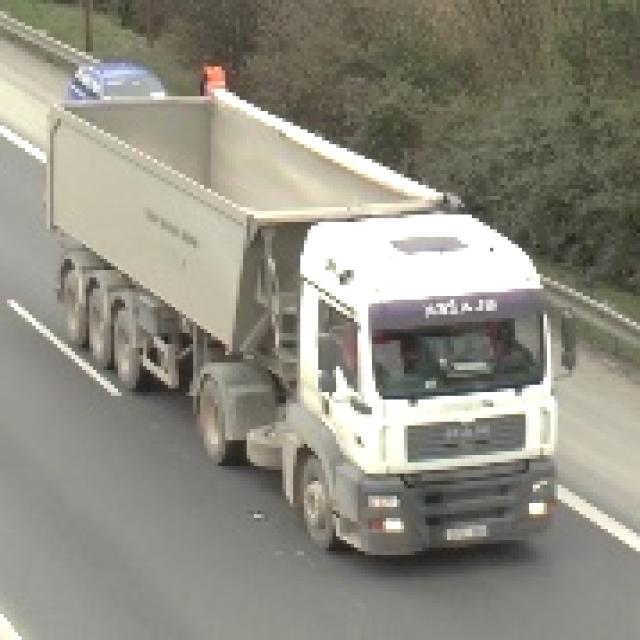TRUCK: (37, 76, 570, 567)
